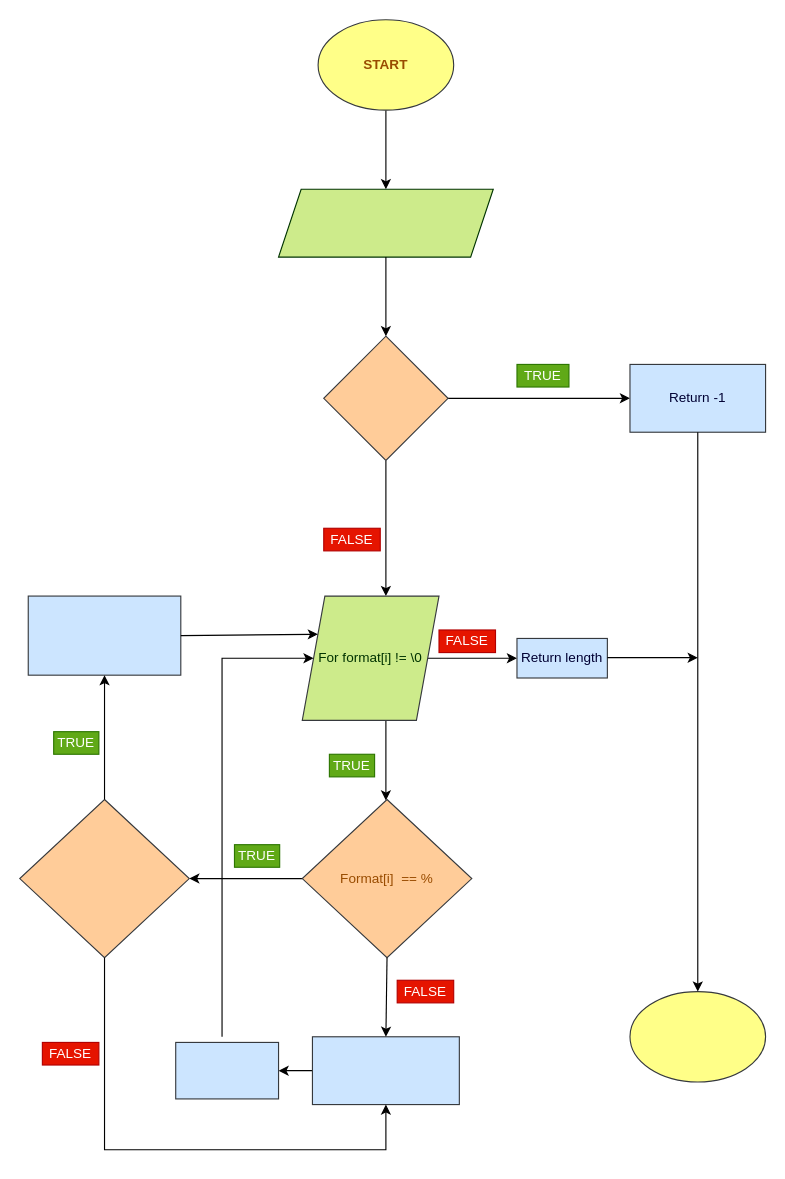
Some shapes in this 785 by 1179 pixel diagram are drawn without their labels. The box of each missing label's shape, as (x1, y1, x2, y2) in pixels:
END: (629, 990, 766, 1082)
Format is NULL: (323, 335, 448, 460)
format[i] + 1 = conversion specifier: (19, 798, 189, 958)
Initialize variable i = 0 to go through the format string: (277, 188, 493, 257)
move to the next character: (175, 1041, 279, 1099)
Print chars and update the length: (311, 1036, 459, 1105)
Print the argument with the appropriate function and update the length +2char: (27, 595, 181, 675)
